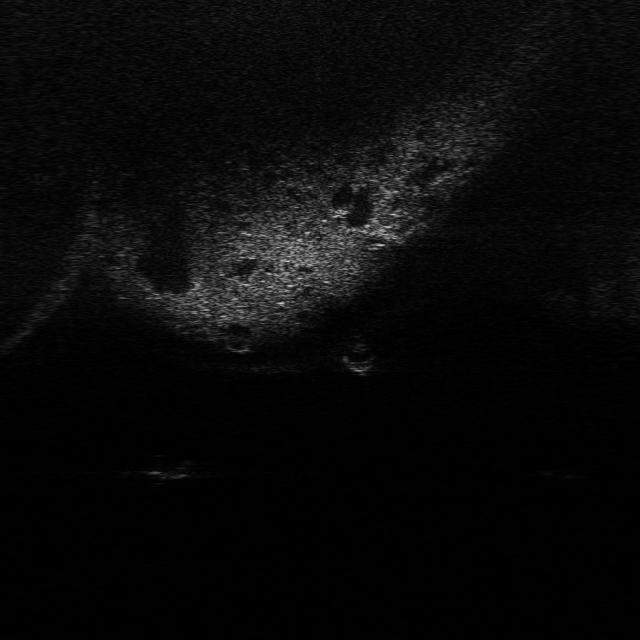ball: (337, 343, 377, 373)
cube: (136, 455, 194, 482)
